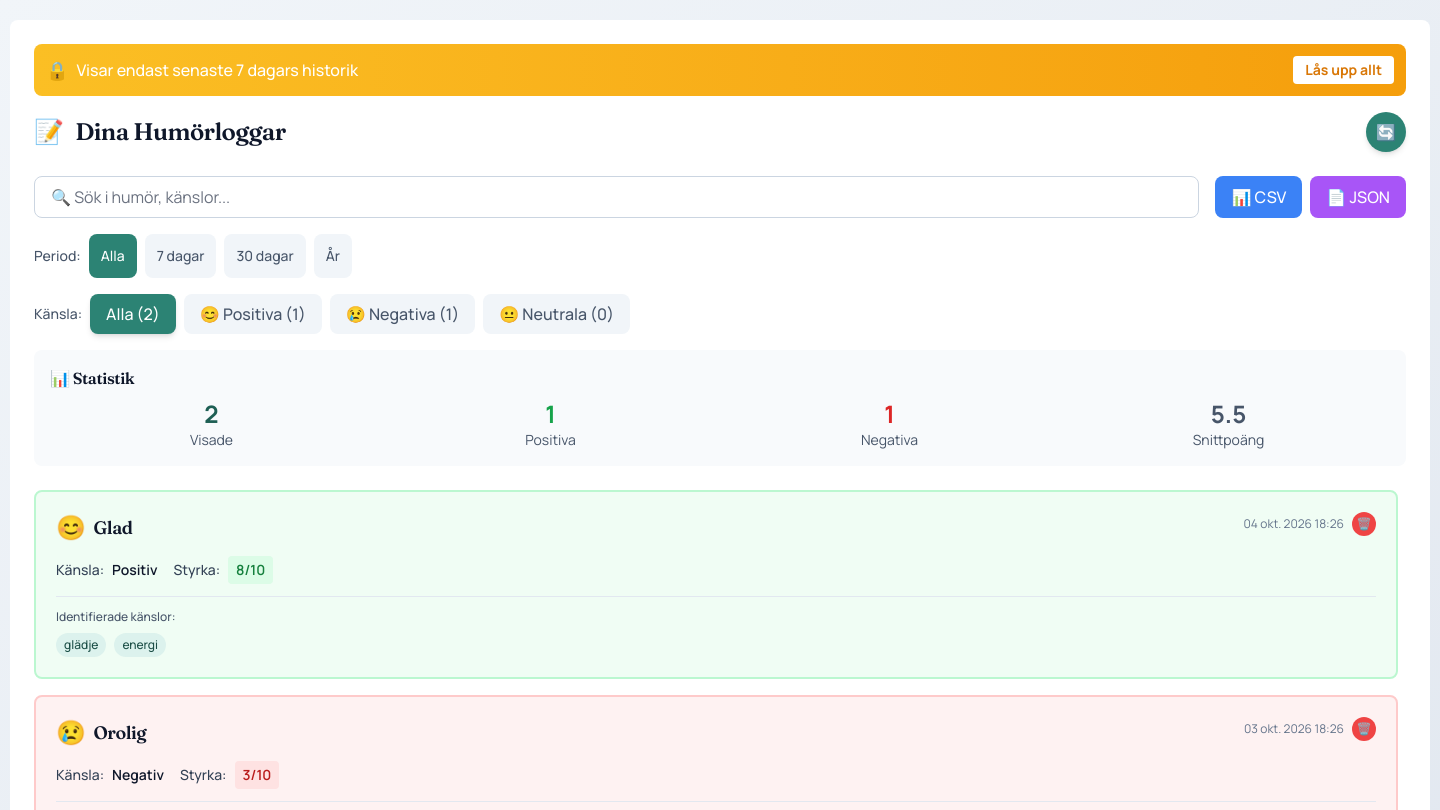
MoodList Component › handles delete confirmation
Expected: the heading "😊 Glad" is shown, [56,512,132,544]
Note: Click delete button (🗑️ emoji)
Click the button named "Radera detta humör" at [1364, 524], box [1352,512,1376,536]
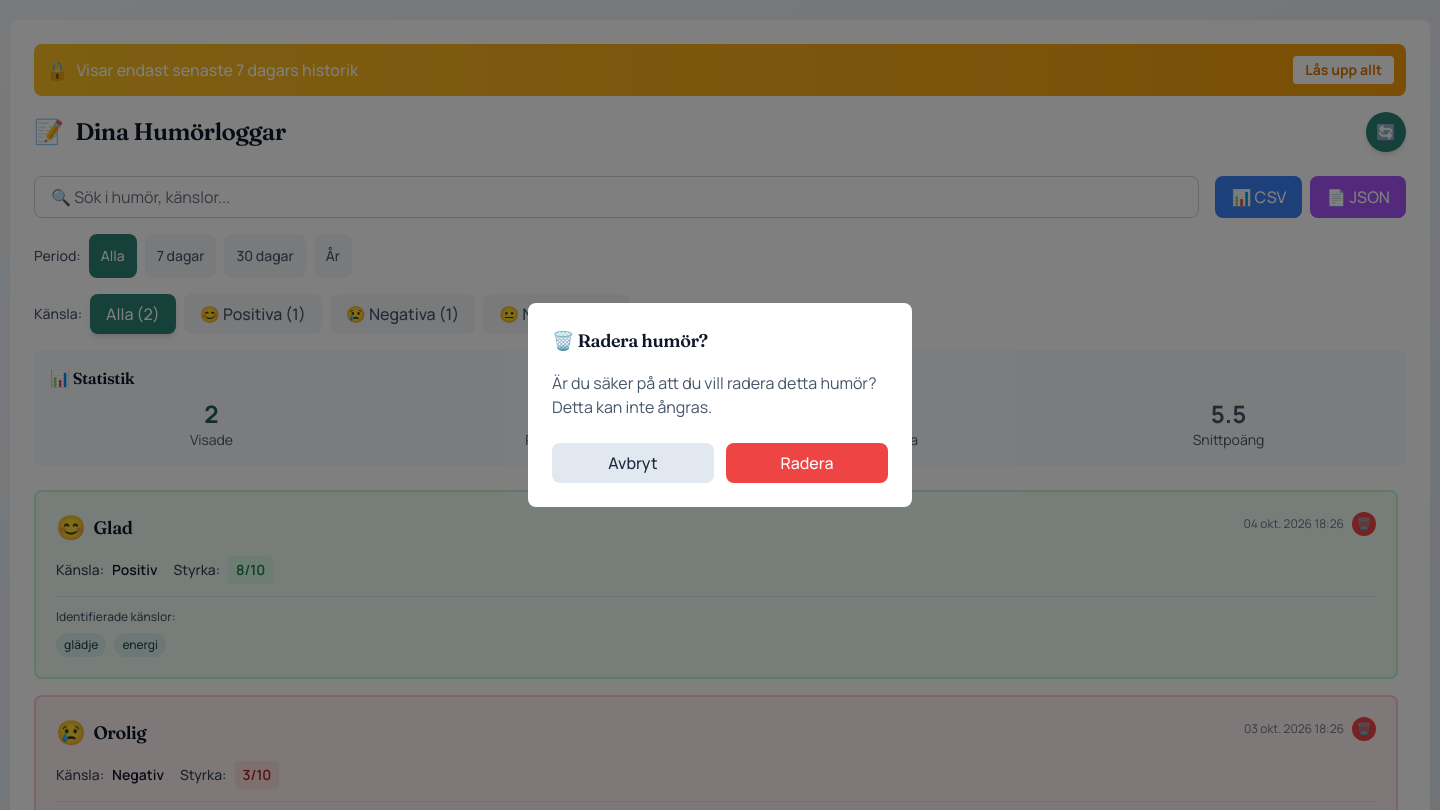
Now the heading "🗑️ Radera humör?" is shown, box [552,329,708,352]
Now the text "Är du säker" is shown, box [552,372,876,418]
